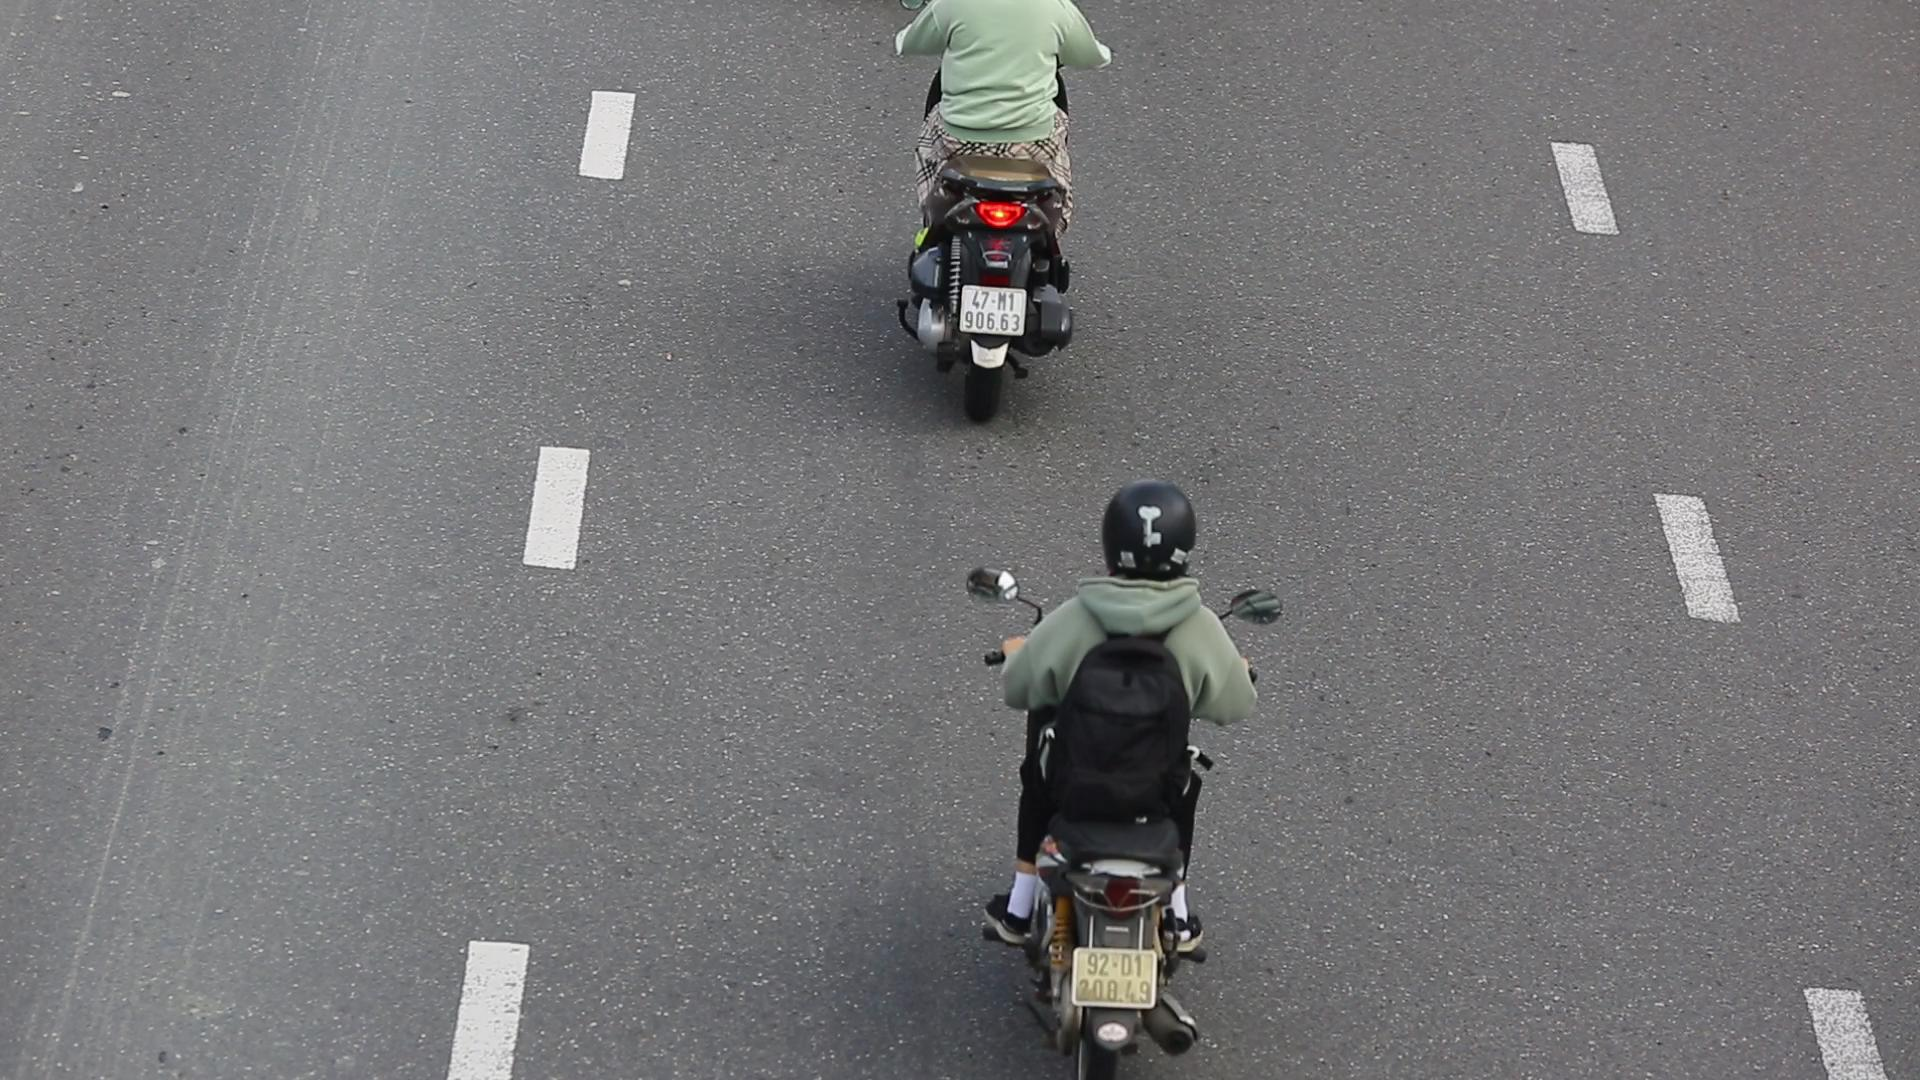motobike: (942, 455, 1296, 1080)
